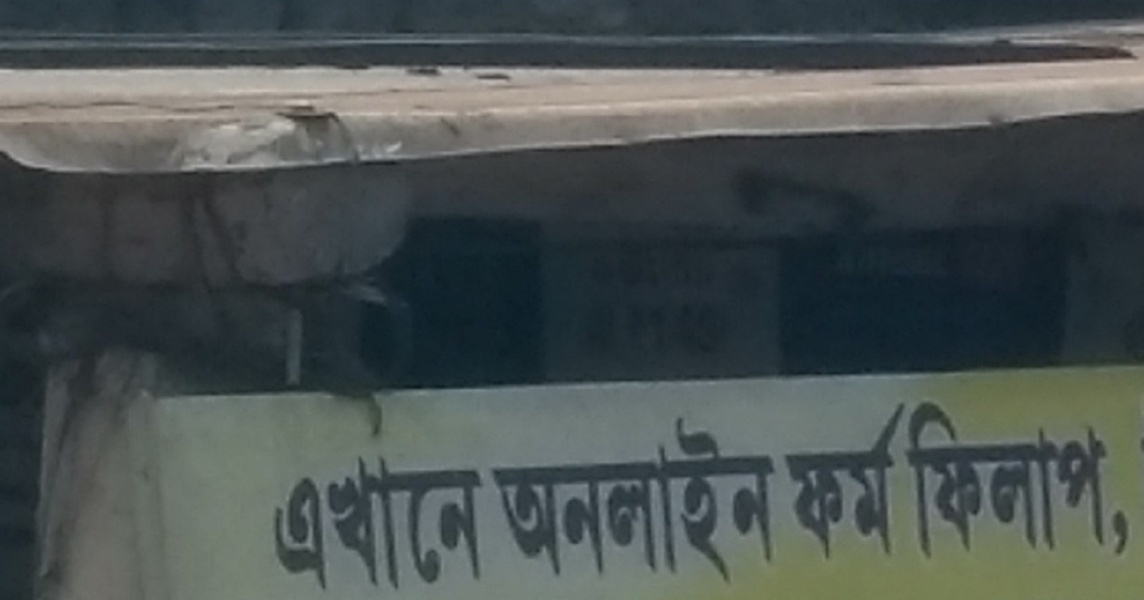text: (497, 393, 512, 592), (513, 393, 528, 592), (529, 393, 544, 592), (545, 393, 560, 592), (561, 393, 576, 592), (577, 393, 592, 592), (593, 393, 608, 592), (609, 393, 624, 592), (625, 393, 640, 592), (641, 393, 656, 592), (657, 393, 672, 592), (673, 393, 688, 592), (689, 393, 704, 592), (705, 393, 720, 592), (721, 393, 736, 592), (737, 393, 752, 592), (753, 393, 768, 592), (769, 393, 784, 592), (897, 395, 913, 559), (913, 397, 928, 565), (929, 397, 944, 565), (945, 397, 960, 565), (961, 397, 976, 565), (977, 397, 992, 565), (993, 397, 1008, 565), (1009, 397, 1024, 565), (1025, 397, 1040, 565), (1041, 397, 1056, 565), (1057, 397, 1072, 565), (1073, 397, 1088, 565), (1089, 397, 1104, 565), (1105, 397, 1120, 565), (1121, 397, 1136, 565), (785, 395, 800, 559), (801, 395, 816, 559), (817, 395, 832, 559), (833, 395, 848, 559), (849, 395, 864, 559), (865, 395, 880, 559), (881, 395, 896, 559), (257, 448, 272, 600), (273, 448, 288, 600), (289, 448, 304, 600), (305, 448, 320, 600), (321, 448, 336, 600), (337, 448, 352, 600), (353, 448, 368, 600), (369, 448, 384, 600), (385, 448, 400, 600), (401, 448, 416, 600), (417, 448, 432, 600), (433, 448, 448, 600), (449, 448, 464, 600), (465, 448, 480, 600), (753, 236, 769, 366), (486, 393, 496, 592), (593, 236, 608, 366), (609, 236, 624, 366), (625, 236, 640, 366), (641, 236, 656, 366), (657, 236, 672, 366), (673, 236, 688, 366), (689, 236, 704, 366), (705, 236, 720, 366), (721, 236, 736, 366), (737, 236, 752, 366), (580, 236, 592, 366), (481, 448, 491, 600), (780, 395, 784, 559), (785, 393, 788, 592), (849, 238, 864, 276), (865, 238, 880, 276), (881, 238, 896, 276), (897, 238, 912, 276), (913, 238, 928, 276), (929, 238, 944, 276), (909, 397, 912, 565), (835, 238, 848, 276), (945, 238, 947, 276)
